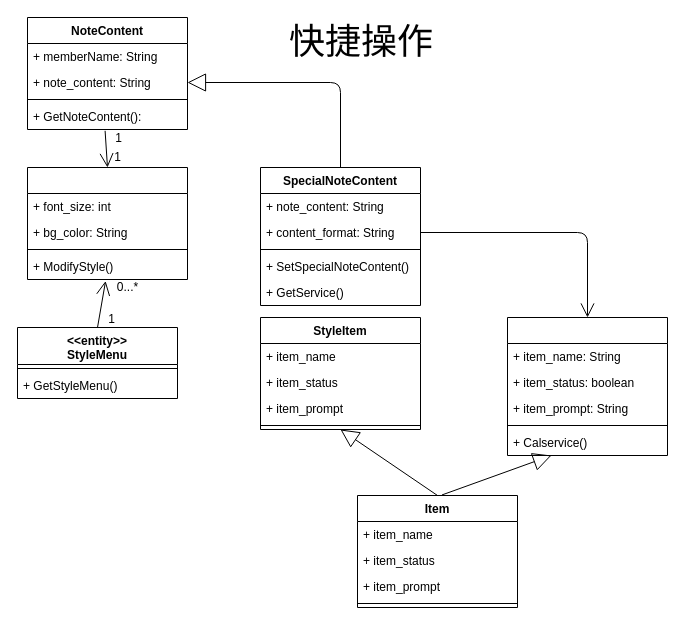
This 685x625 diagram has some shape labels left out. Each missing label, with the box of its shape:
NoteStyle: (26, 166, 188, 280)
ServiceItem: (506, 316, 668, 456)
